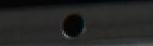holes: (59, 13, 85, 39)
